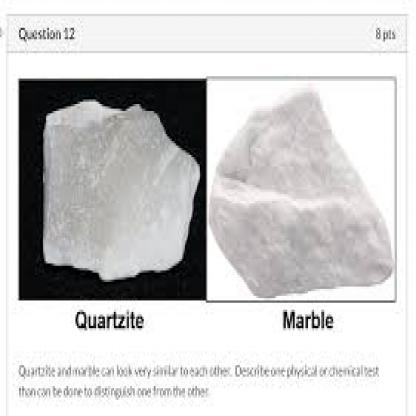Metamorphic_Quartize: (31, 90, 206, 282)
